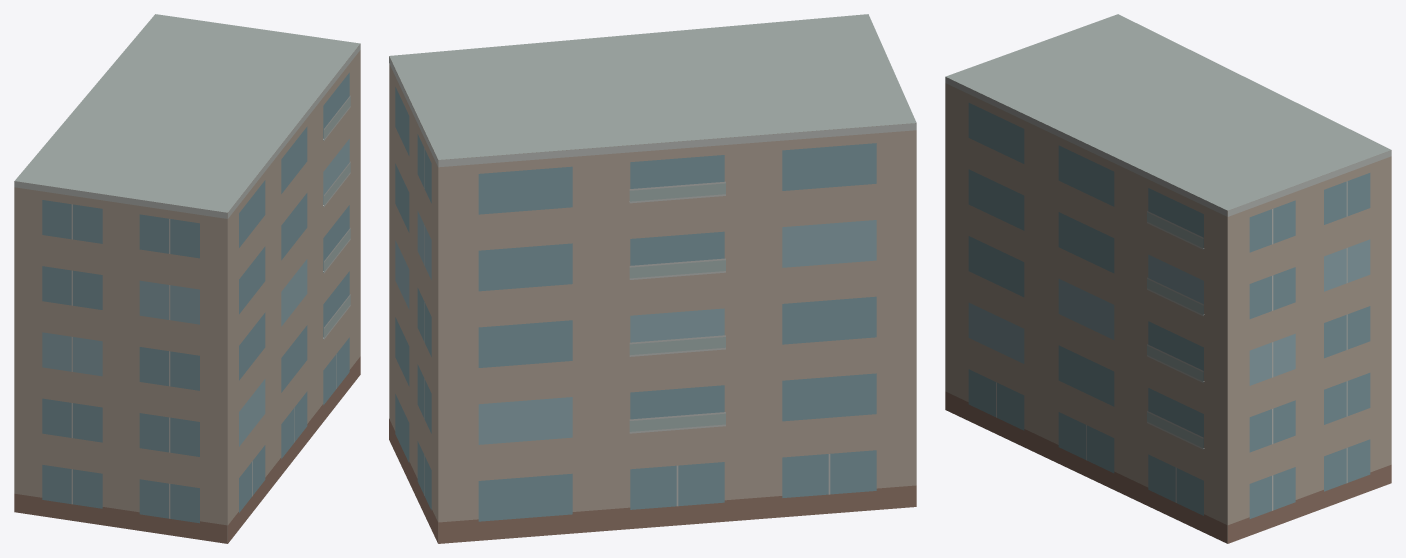
File: survey-upis-32885932.glb
The picture shows the model from 3 angles, left to right: view 1: azimuth 30°, elevation 25°; view 2: azimuth 150°, elevation 25°; view 3: azimuth 270°, elevation 25°; orthographic projection. The views are drawn at different scales.
Visible parts, largest first — view 1: survey-upis-32885932.tmp; view 2: survey-upis-32885932.tmp; view 3: survey-upis-32885932.tmp.
Boxes of the visible parts, <box> form: survey-upis-32885932.tmp: <box>14,14,360,543</box>; survey-upis-32885932.tmp: <box>389,14,916,543</box>; survey-upis-32885932.tmp: <box>945,14,1391,543</box>.
Bounding box in the file's own units: 16.34 × 12.9 × 15.67.
